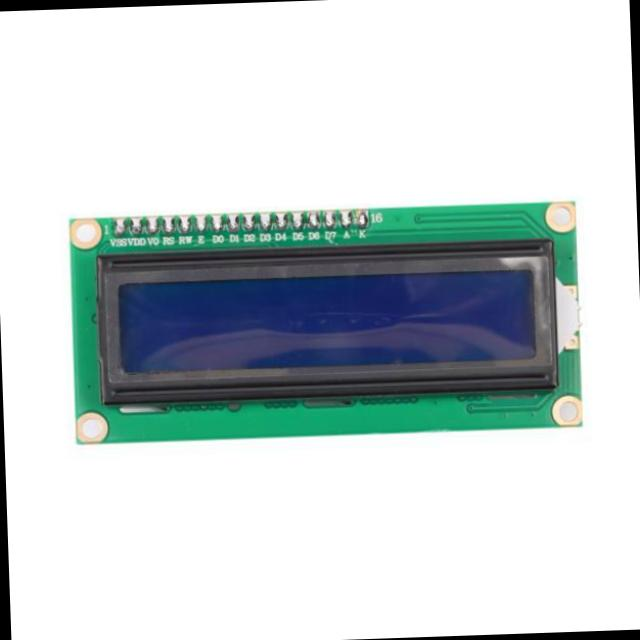lcd: (66, 198, 584, 446)
